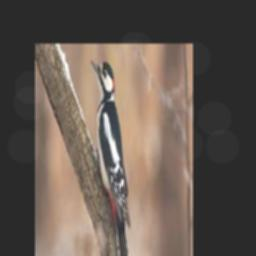Woodpecker: (91, 59, 130, 256)
